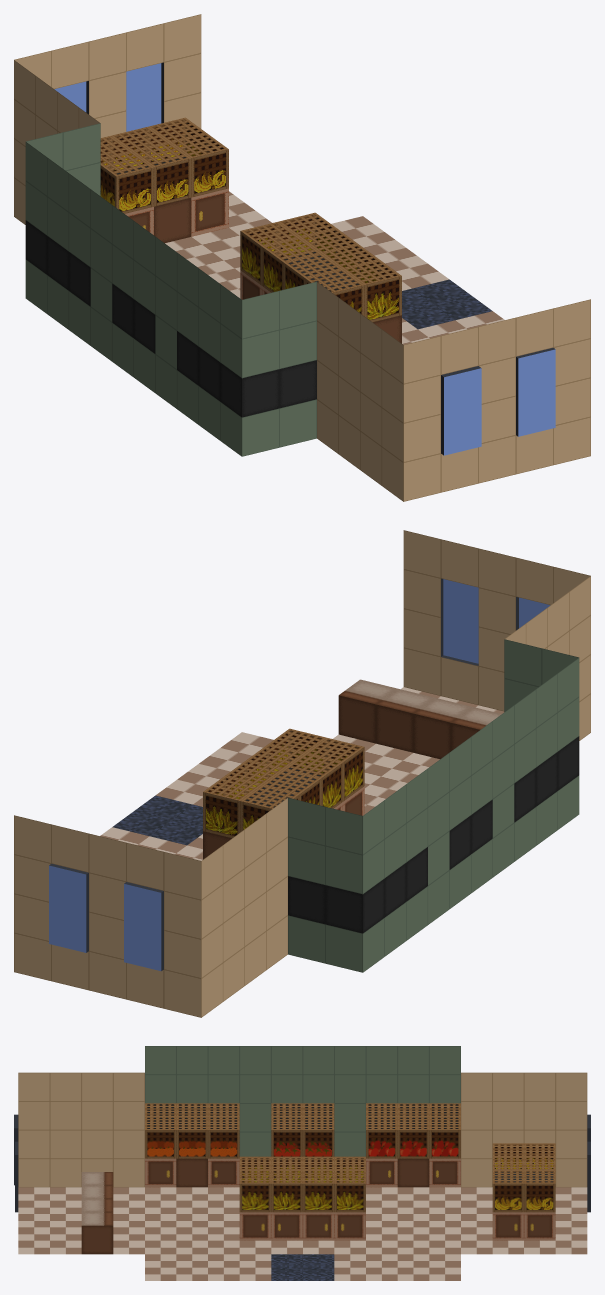
Rendered from grocerystoreinterior.dae.
3 views of the same model, one above another, from view 1: azimuth 30°, elevation 25°; view 2: azimuth 150°, elevation 25°; view 3: azimuth 270°, elevation 25° (orthographic). The views are drawn at different scales.
Parts seen in each view (by area): view 1: grocery-col; view 2: grocery-col; view 3: grocery-col.
Boxes of the visible parts, <box> form: grocery-col: <box>14,14,590,501</box>; grocery-col: <box>14,530,590,1017</box>; grocery-col: <box>14,1046,590,1280</box>.
Size of the model in its own units: 17.44 by 35.37 by 7.78.
Materials: 1 (1 with a texture image).
